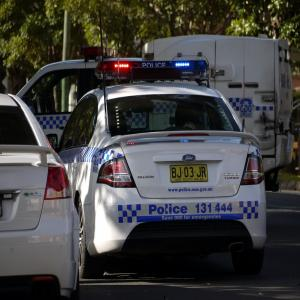Vehicle-registration-plate: (105, 136, 258, 254), (171, 165, 209, 183)
